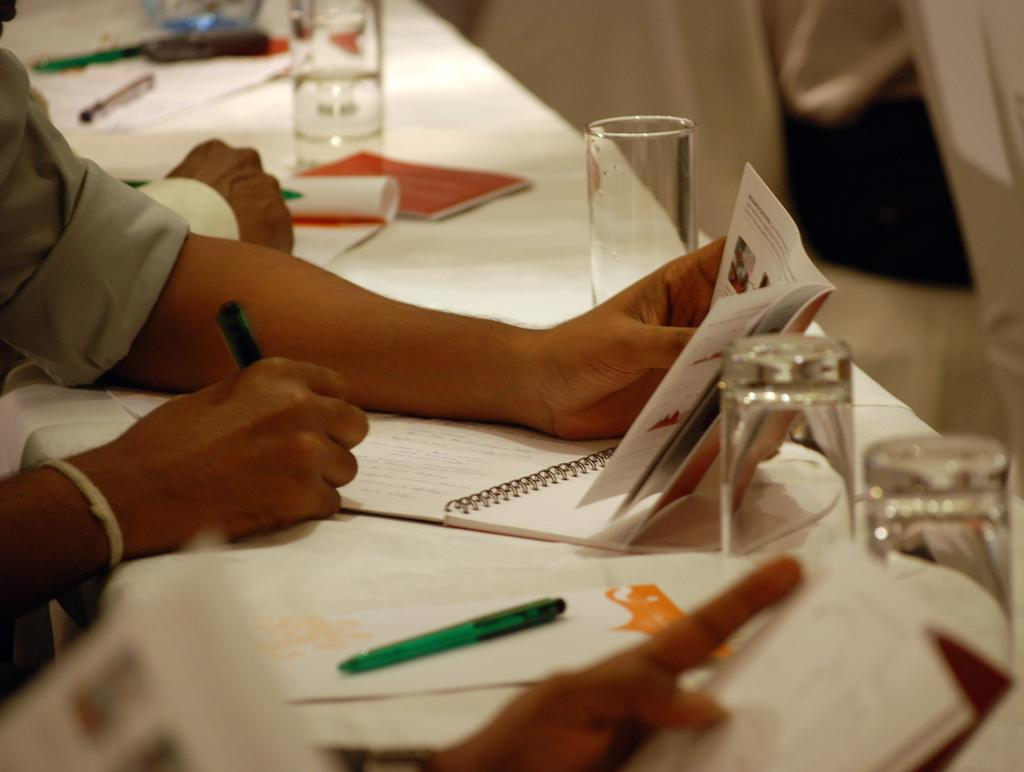pen: (331, 594, 570, 673), (121, 178, 307, 205), (214, 298, 268, 375), (77, 77, 157, 125)
